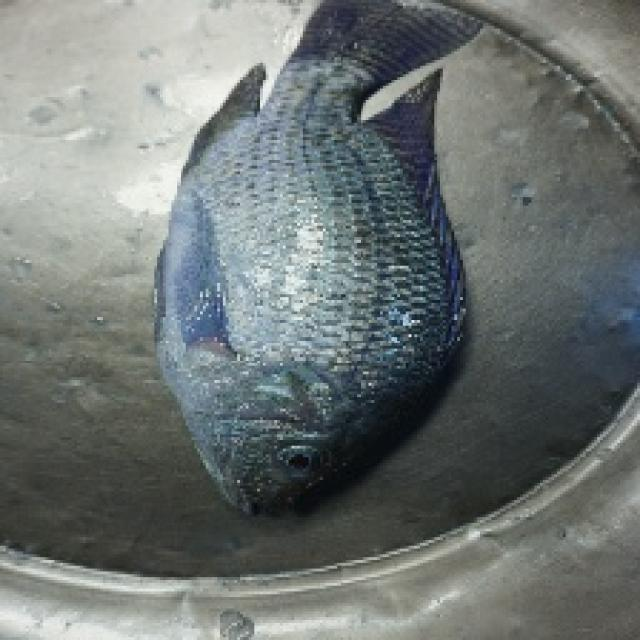Fresh: (97, 0, 480, 494)
